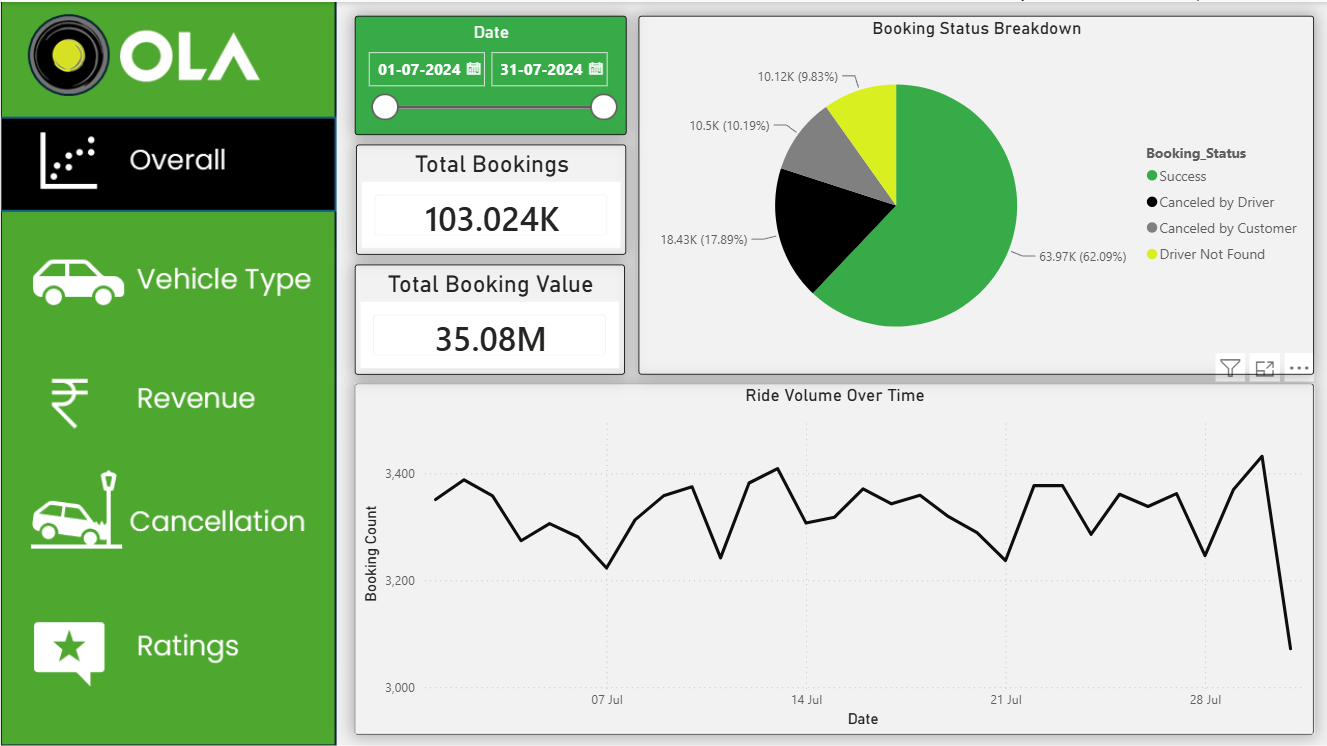

The page's visual inventory and layout, read from the dashboard file:
{"tool":"powerbi","page":{"name":"Overall","canvas":[1280,720],"ordinal":0},"visuals":[{"type":"actionButton","box":[0,222,323.3,90.5],"z":0},{"type":"actionButton","box":[0,335.4,323.3,90.5],"z":1000},{"type":"actionButton","box":[0,446.4,323.3,90.5],"z":2000},{"type":"actionButton","box":[0,581.5,323.3,90.5],"z":3000},{"type":"lineChart","title":"Ride Volume Over Time","fields":{"Category":["Bookings.Date.1"],"Y":["CountNonNull(Bookings.Booking_ID)"]},"box":[341.6,367.5,926,339],"z":4000},{"type":"pieChart","title":"Booking Status Breakdown","fields":{"Category":["Bookings.Booking_Status"],"Y":["CountNonNull(Bookings.Booking_Status)"]},"box":[615.6,13,651.9,346.8],"z":5000},{"type":"slicer","title":"Date","fields":{"Values":["Bookings.Date.1"]},"box":[341.6,13,262.3,115.6],"z":6000},{"type":"cardVisual","title":"Total Bookings","fields":{"Data":["CountNonNull(Bookings.Booking_ID)"]},"box":[342.9,137.7,261,106.5],"z":7000},{"type":"cardVisual","title":"Total Booking Value","fields":{"Data":["Sum(Bookings.Booking_Value)"]},"box":[341.6,253.2,261,106.5],"z":8000}]}

Visuals, with their boxes in screenshot pixels (x1, y1, x2, y2), scaled from the page's 1280x720 canvas onto the 1327x746 screenshot:
actionButton: bbox=(0, 230, 335, 324)
actionButton: bbox=(0, 348, 335, 441)
actionButton: bbox=(0, 463, 335, 556)
actionButton: bbox=(0, 602, 335, 696)
"Ride Volume Over Time" lineChart: bbox=(354, 381, 1314, 732)
"Booking Status Breakdown" pieChart: bbox=(638, 13, 1314, 373)
"Date" slicer: bbox=(354, 13, 626, 133)
"Total Bookings" cardVisual: bbox=(355, 143, 626, 253)
"Total Booking Value" cardVisual: bbox=(354, 262, 625, 373)
